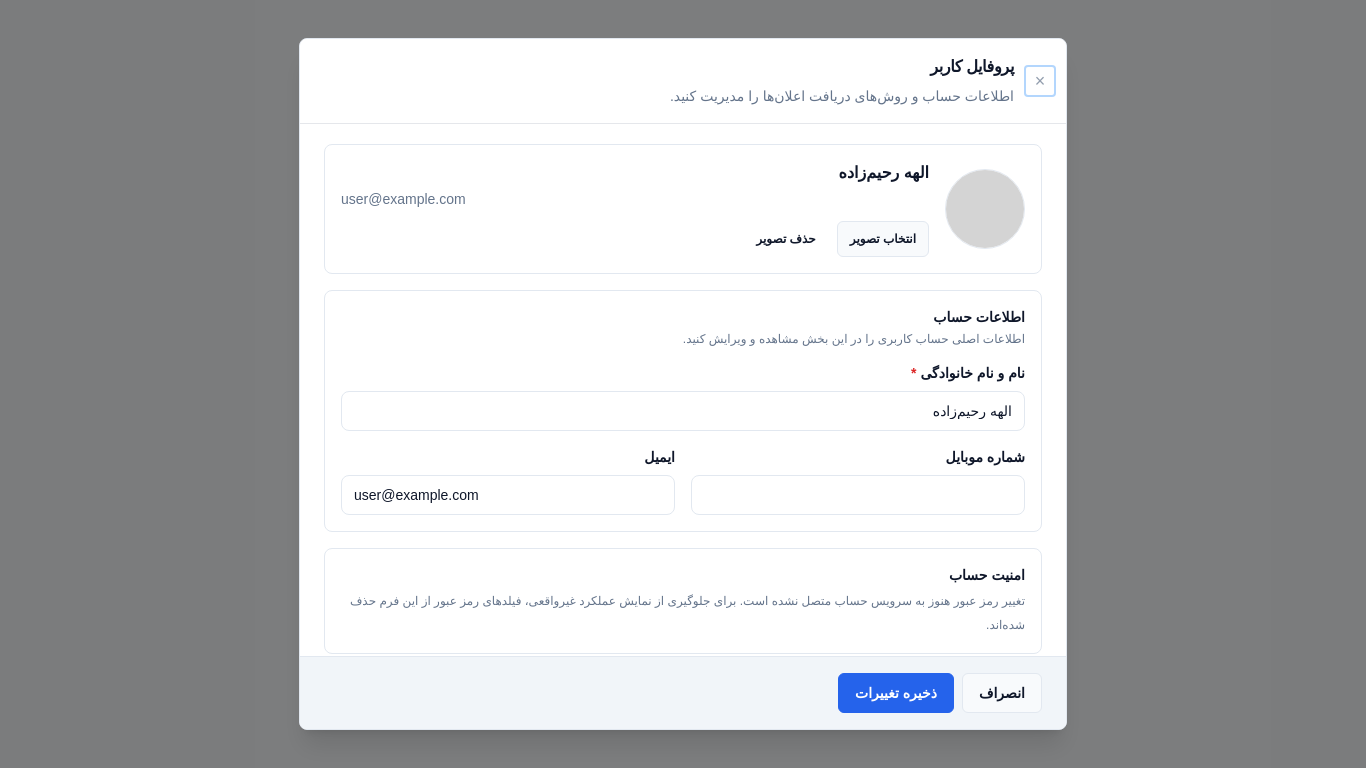
Test case: User profile avatar › deletes only after success and returns to initials
Click the button "حذف تصویر". click: x=786, y=239
box: [743,221,829,257]
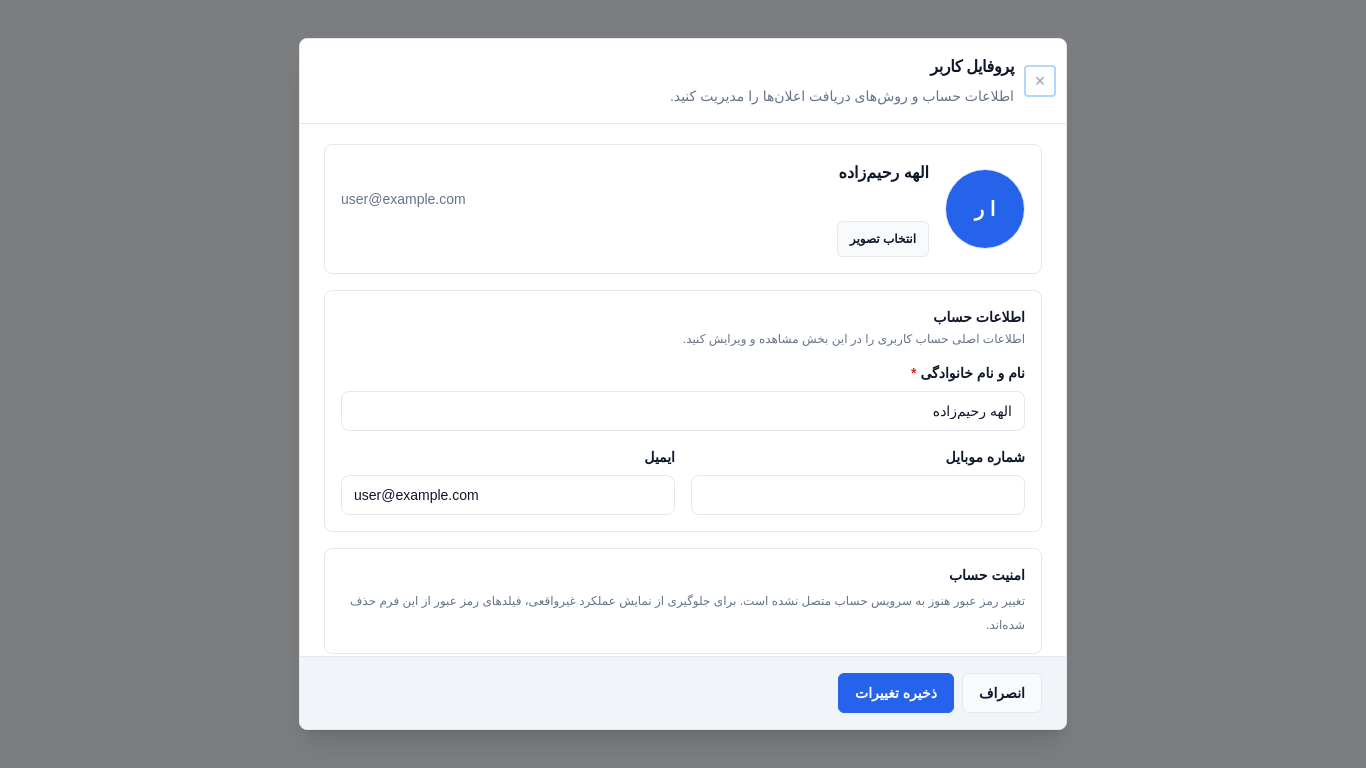
Expected: the text "ا ر" is shown, [946,170,1024,248]
